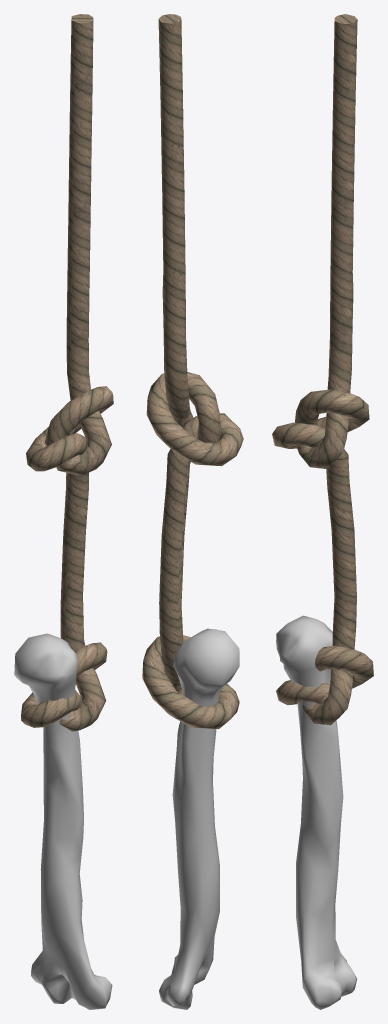
The model's file is SM_Bone07.fbx.
The picture shows the model from 3 angles, left to right: view 1: azimuth 30°, elevation 25°; view 2: azimuth 150°, elevation 25°; view 3: azimuth 330°, elevation 25°; orthographic projection.
Visible parts, largest first — view 1: SM_Bone07_LOD0; view 2: SM_Bone07_LOD0; view 3: SM_Bone07_LOD0.
Part boxes in pixels (x1,y1,x2,y2): SM_Bone07_LOD0: [14, 14, 113, 1009]; SM_Bone07_LOD0: [142, 14, 243, 1009]; SM_Bone07_LOD0: [272, 14, 373, 1009].
Size of the model in its own units: 9.58 by 8.96 by 99.07.
